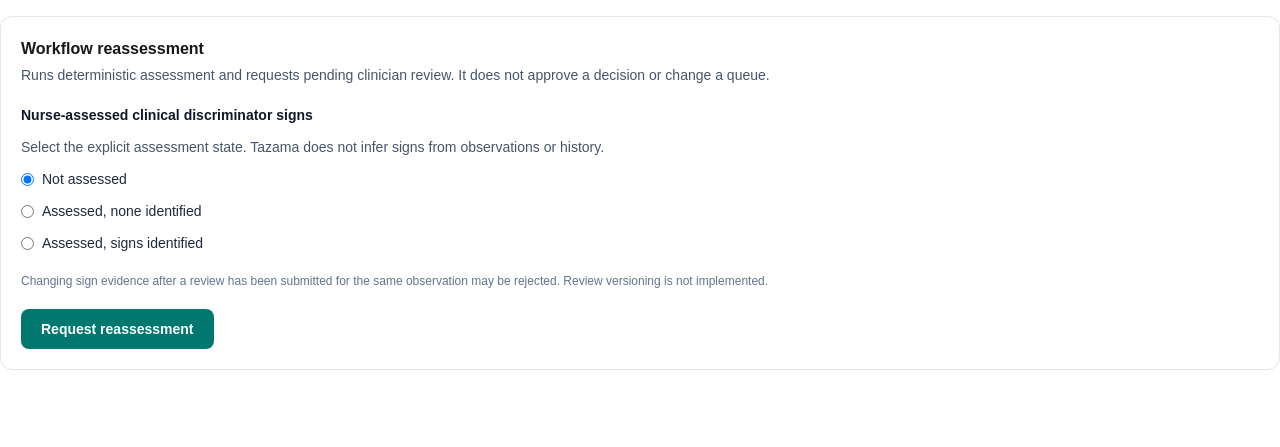
it: ReassessmentPanel › shows missing observations
Click the button "Request reassessment". click: (117, 329)
box: left=21, top=309, right=214, bottom=349
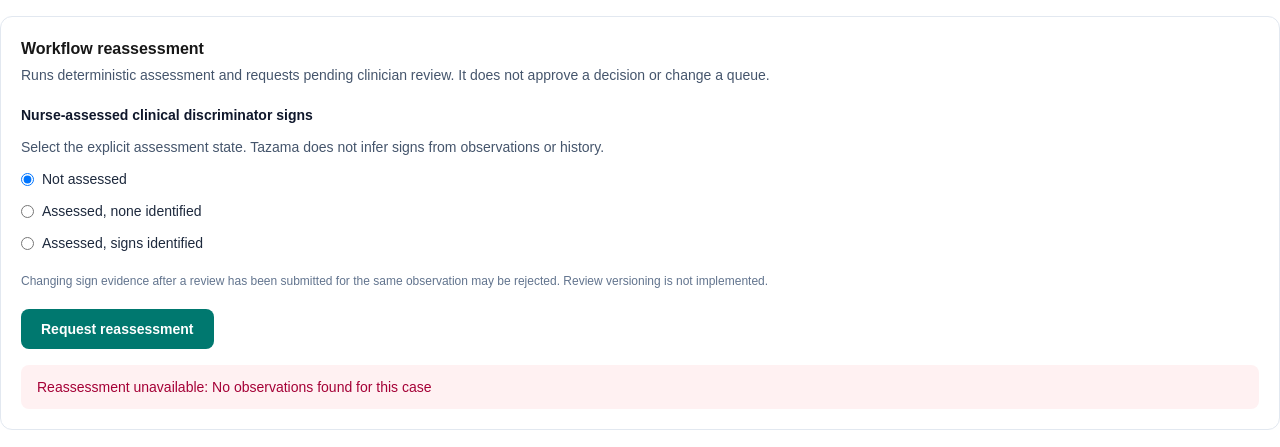
Now the message shows "No observations found for this case", box left=212, top=379, right=432, bottom=395
